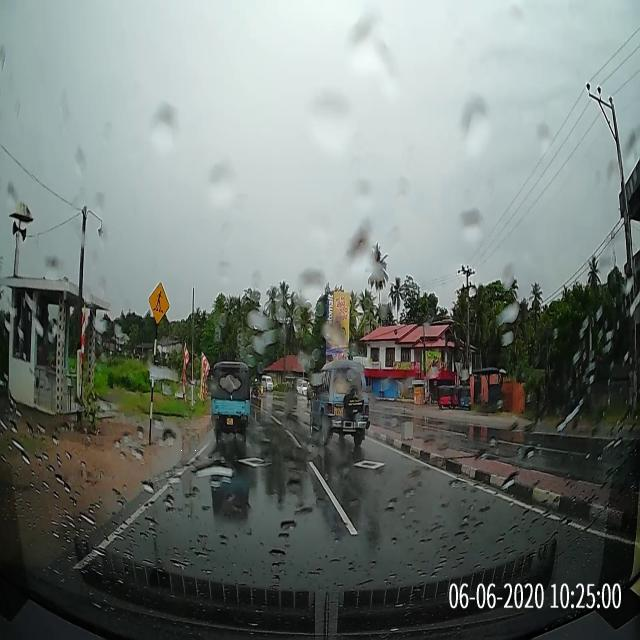diamond: (181, 445, 339, 500)
